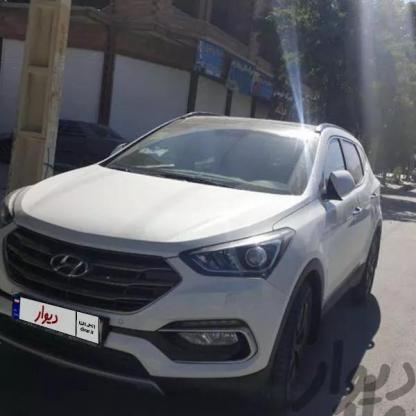Car: (0, 109, 382, 416), (4, 123, 135, 165)
